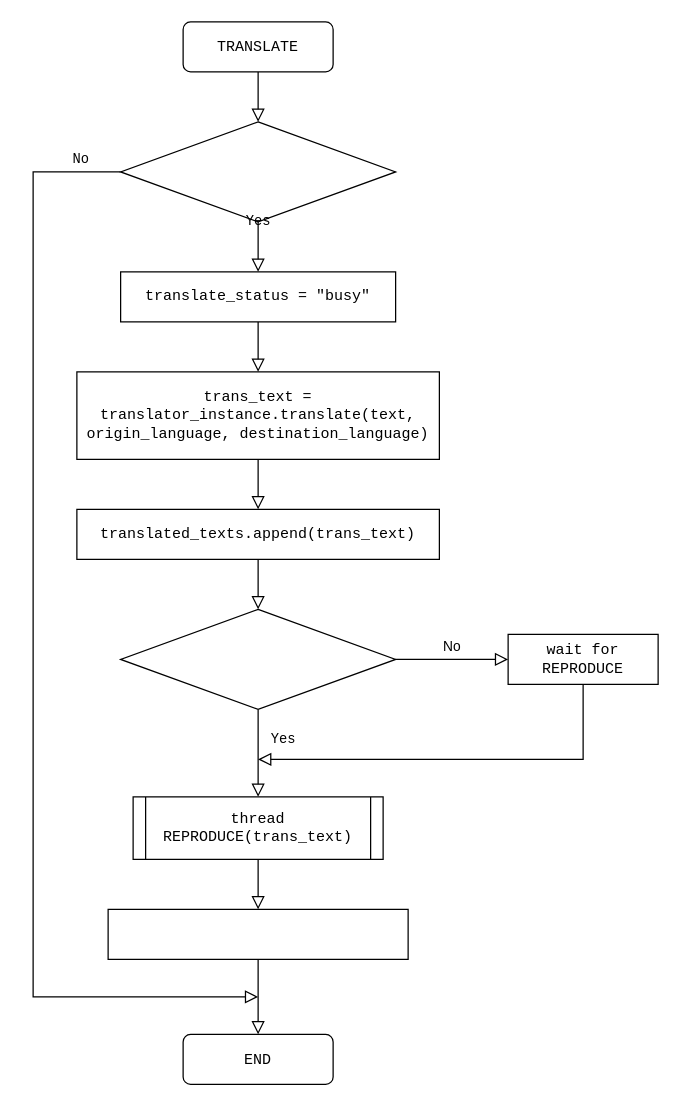
Image size: 680x1106. Some labels were removed from this diagram. Each missing label, with the centre of its shape:
if global_status == "interpreting": (x=257, y=171)
if reproduce_status == "available": (x=257, y=658)
translate_status = "available": (x=257, y=933)
